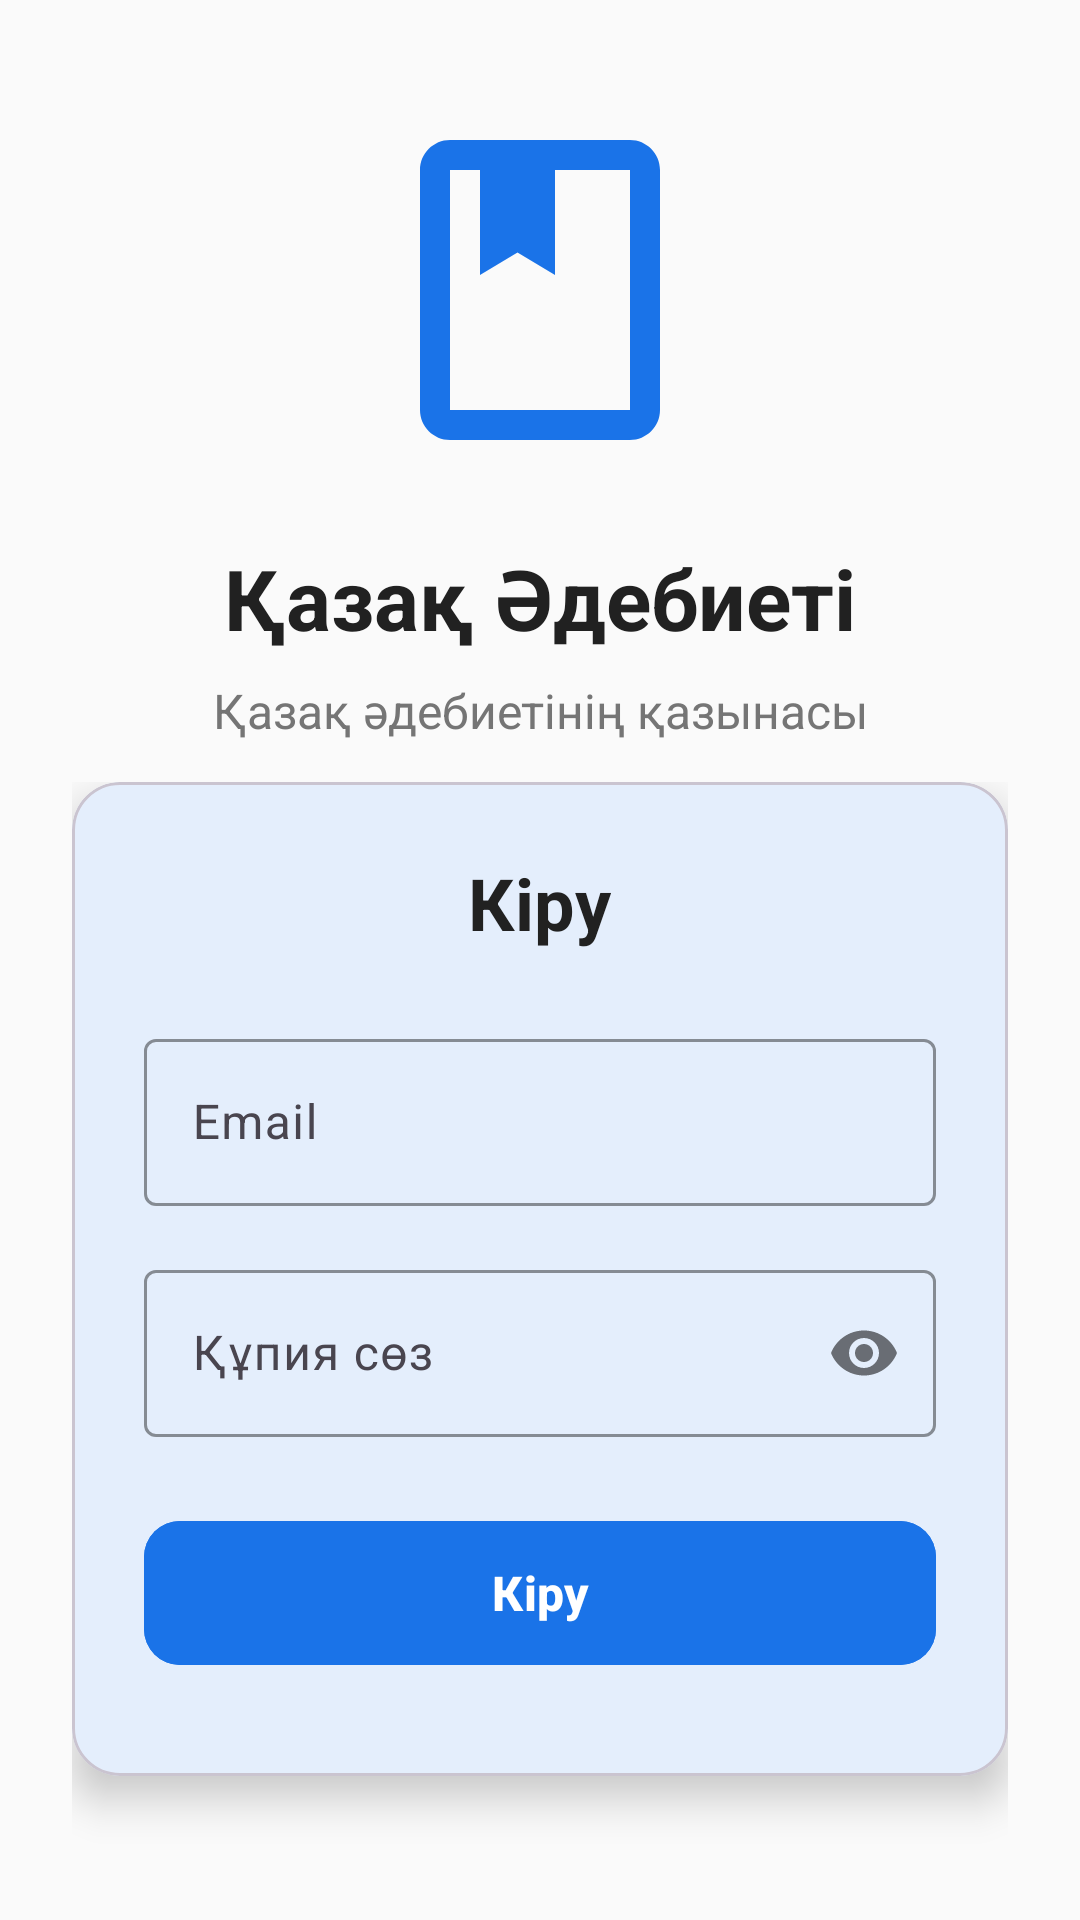

Named icons in this screenshot (1080w x 1920h) and their centers, (x,y):
book: (540,290)
